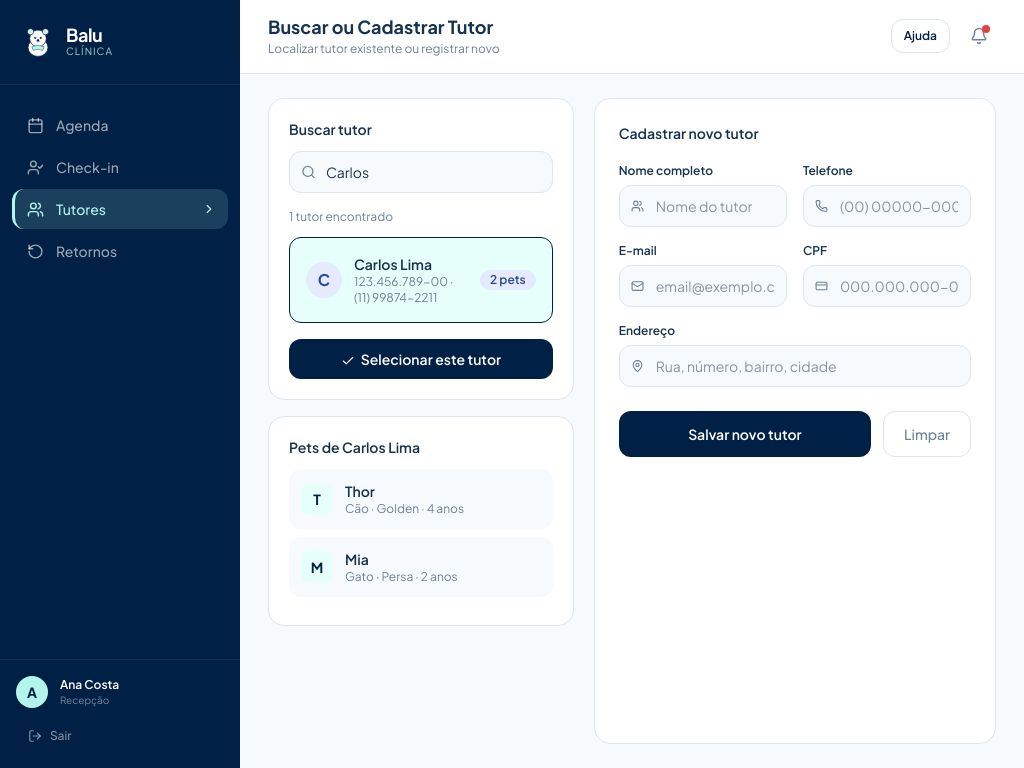
Scenario: filtra tutores por nome ou CPF e informa a quantidade
Replace the text in the field with placeholder "Nome, CPF, telefone ou e-mail..." with "987.654": (421, 172) [289,150,553,192]
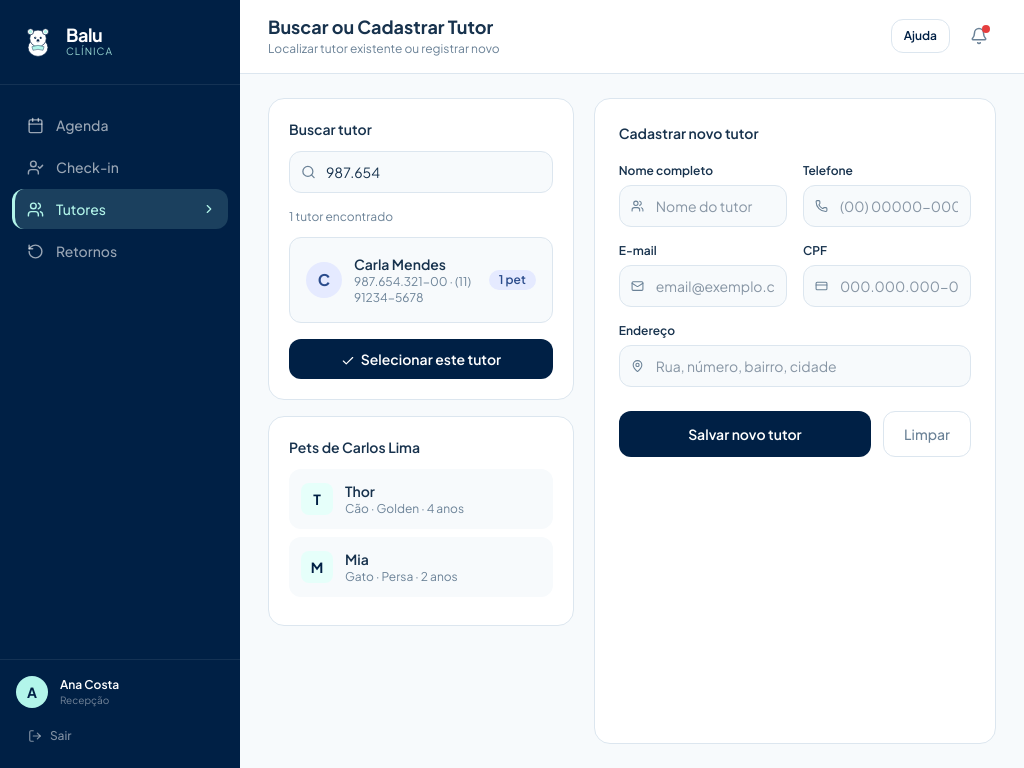
Expected: the text "1 tutor encontrado" is shown, [289,208,393,224]
Expected: the text "Carla Mendes" is shown, [354,254,446,272]
